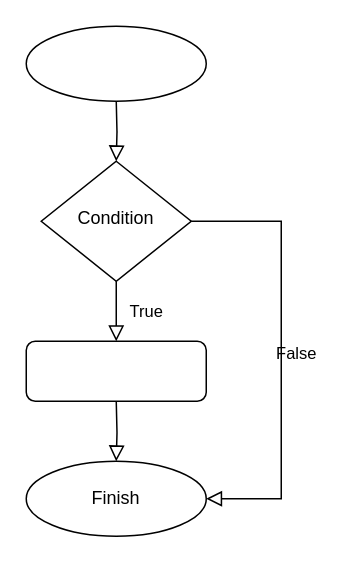
The diagram is 342 pixels wide and 563 high, and some of its shapes have lost their labels. Here are the shapes that lost their labels. From the top down, the centre of each, then its label:
the point at 115,63: Start
the point at 115,370: "True" block
